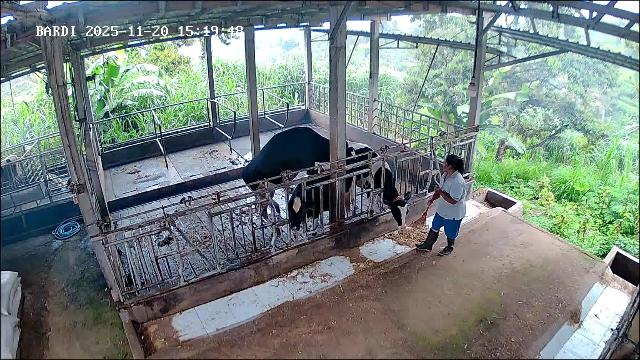mounting: (241, 127, 355, 227)
